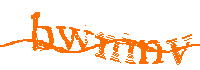b: (29, 10, 56, 53)
m: (96, 31, 135, 65)
n: (138, 38, 164, 66)
v: (166, 34, 194, 67)
w: (57, 23, 91, 54)
